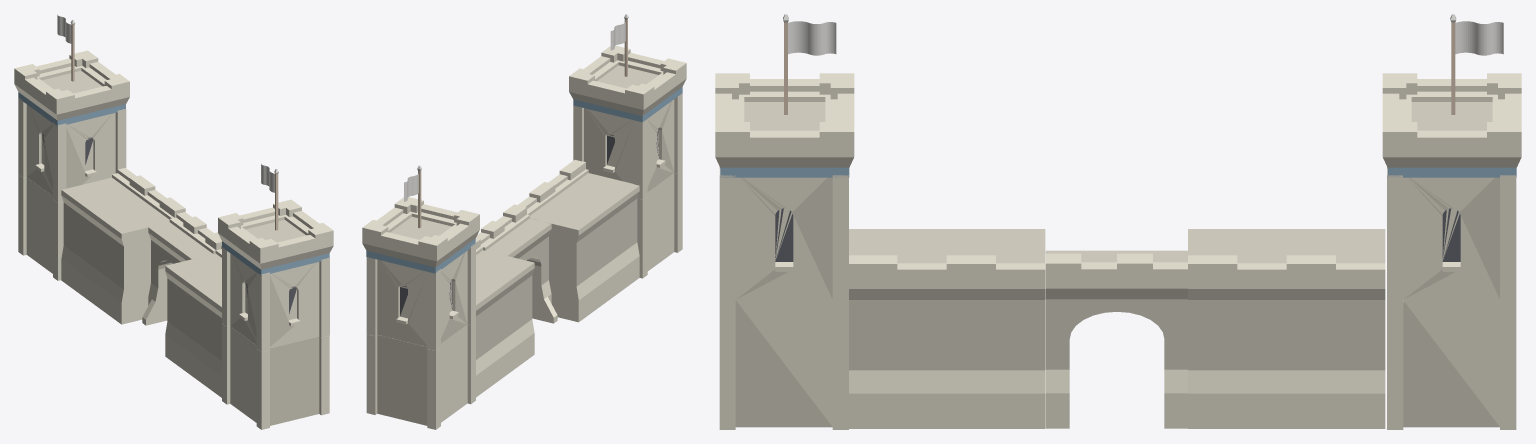
File: 3level.glb
3 views of the same model, side by side, from view 1: azimuth 30°, elevation 25°; view 2: azimuth 150°, elevation 25°; view 3: azimuth 270°, elevation 25° (orthographic). The views are drawn at different scales.
Visible parts, largest first — view 1: wallHalf.003_wallHalf.001, towerSquareMid.012_towerSquareMid.001, towerSquareMidWindows.025, towerSquareMidWindows.026, wallHalf.002_wallHalf.001, towerSquareTopColor.011, towerSquareTopColor.010, wallNarrowGate.005, towerSquareMid.011_towerSquareMid.001, flagWhiteWide.011, flagWhiteWide.010; view 2: wallHalf.002_wallHalf.001, towerSquareMid.011_towerSquareMid.001, towerSquareMidWindows.026, towerSquareMidWindows.025, wallHalf.003_wallHalf.001, towerSquareTopColor.010, towerSquareTopColor.011, wallNarrowGate.005, towerSquareMid.012_towerSquareMid.001, flagWhiteWide.011, flagWhiteWide.010; view 3: wallHalf.003_wallHalf.001, wallHalf.002_wallHalf.001, towerSquareMid.012_towerSquareMid.001, towerSquareMid.011_towerSquareMid.001, towerSquareMidWindows.025, towerSquareMidWindows.026, wallNarrowGate.005, towerSquareTopColor.011, towerSquareTopColor.010, flagWhiteWide.011, flagWhiteWide.010.
Part boxes in pixels (x1,y1,x2,y2): wallHalf.003_wallHalf.001: (61, 168, 185, 324); towerSquareMid.012_towerSquareMid.001: (222, 323, 329, 429); towerSquareMidWindows.025: (222, 247, 329, 352); towerSquareMidWindows.026: (18, 97, 126, 202); wallHalf.002_wallHalf.001: (165, 245, 221, 397); towerSquareTopColor.011: (14, 50, 129, 126); towerSquareTopColor.010: (218, 199, 333, 275); wallNarrowGate.005: (142, 212, 221, 325); towerSquareMid.011_towerSquareMid.001: (18, 174, 63, 280); flagWhiteWide.011: (57, 14, 75, 81); flagWhiteWide.010: (261, 163, 278, 230); wallHalf.002_wallHalf.001: (517, 160, 639, 322); towerSquareMid.011_towerSquareMid.001: (366, 322, 475, 429); towerSquareMidWindows.026: (366, 243, 475, 350); towerSquareMidWindows.025: (573, 93, 682, 199); wallHalf.003_wallHalf.001: (475, 238, 534, 397); towerSquareTopColor.010: (569, 45, 686, 122); towerSquareTopColor.011: (362, 197, 479, 273); wallNarrowGate.005: (476, 204, 557, 323); towerSquareMid.012_towerSquareMid.001: (637, 170, 682, 278); flagWhiteWide.011: (404, 165, 421, 228); flagWhiteWide.010: (610, 14, 628, 76); wallHalf.003_wallHalf.001: (1188, 229, 1385, 428); wallHalf.002_wallHalf.001: (849, 229, 1045, 428); towerSquareMid.012_towerSquareMid.001: (719, 300, 848, 429); towerSquareMid.011_towerSquareMid.001: (1387, 300, 1516, 429); towerSquareMidWindows.025: (719, 167, 848, 302); towerSquareMidWindows.026: (1387, 167, 1516, 302); wallNarrowGate.005: (1045, 250, 1187, 428); towerSquareTopColor.011: (1382, 73, 1521, 177); towerSquareTopColor.010: (715, 73, 854, 177); flagWhiteWide.011: (1450, 14, 1503, 114); flagWhiteWide.010: (783, 14, 836, 114).
Size of the model in its own units: 10 by 30.89 by 58.01.
